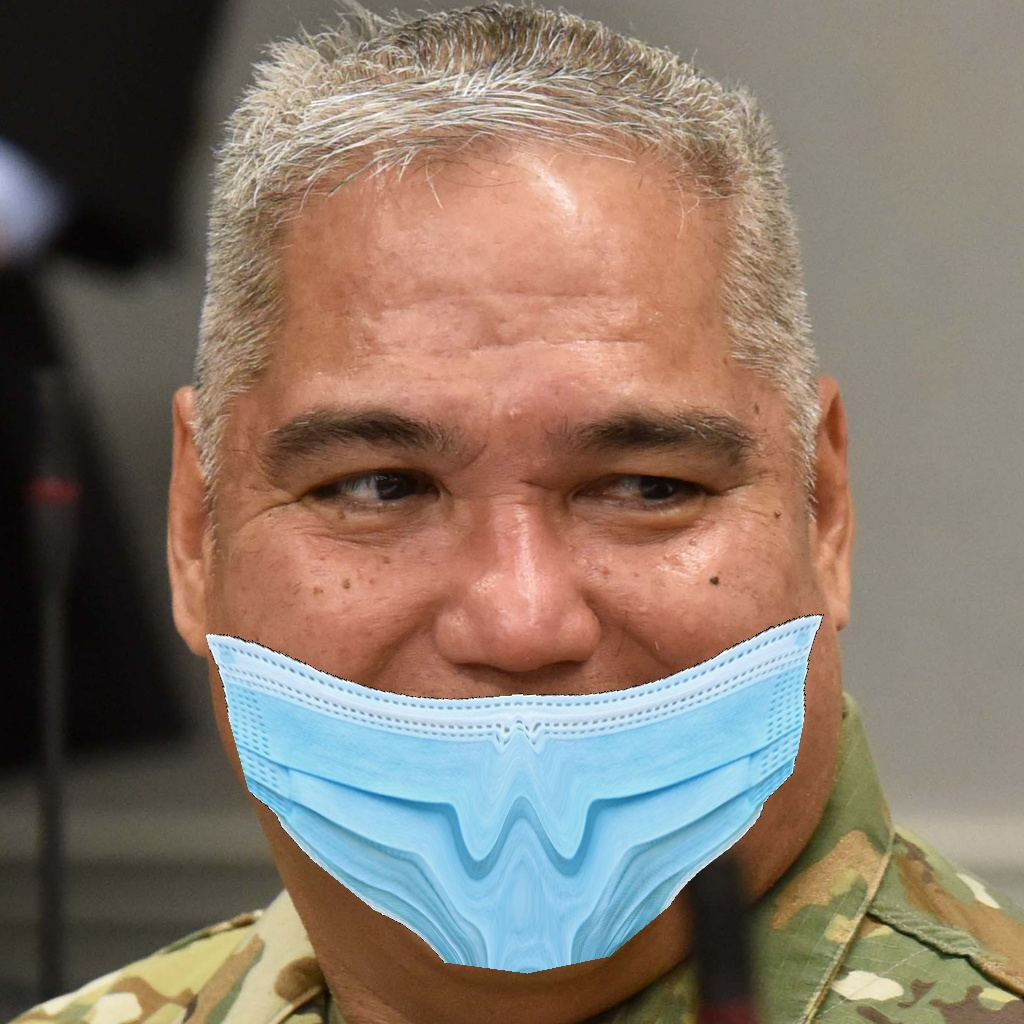mascarilla_mal_puesta: (167, 390, 864, 975)
